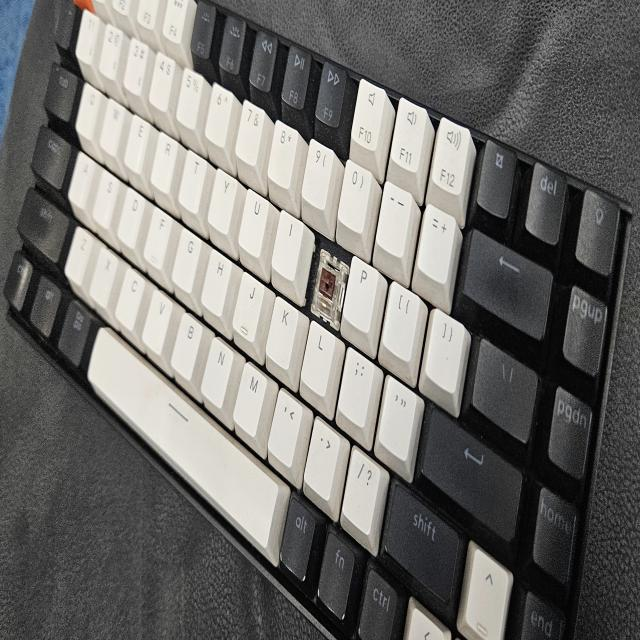C: (319, 250, 339, 314)
